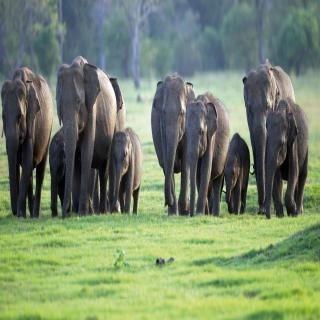Elephant: (55, 58, 118, 240), (0, 64, 56, 220), (184, 90, 232, 227), (150, 72, 192, 221), (264, 97, 310, 222), (243, 58, 272, 228), (112, 125, 146, 222), (223, 129, 254, 224)
